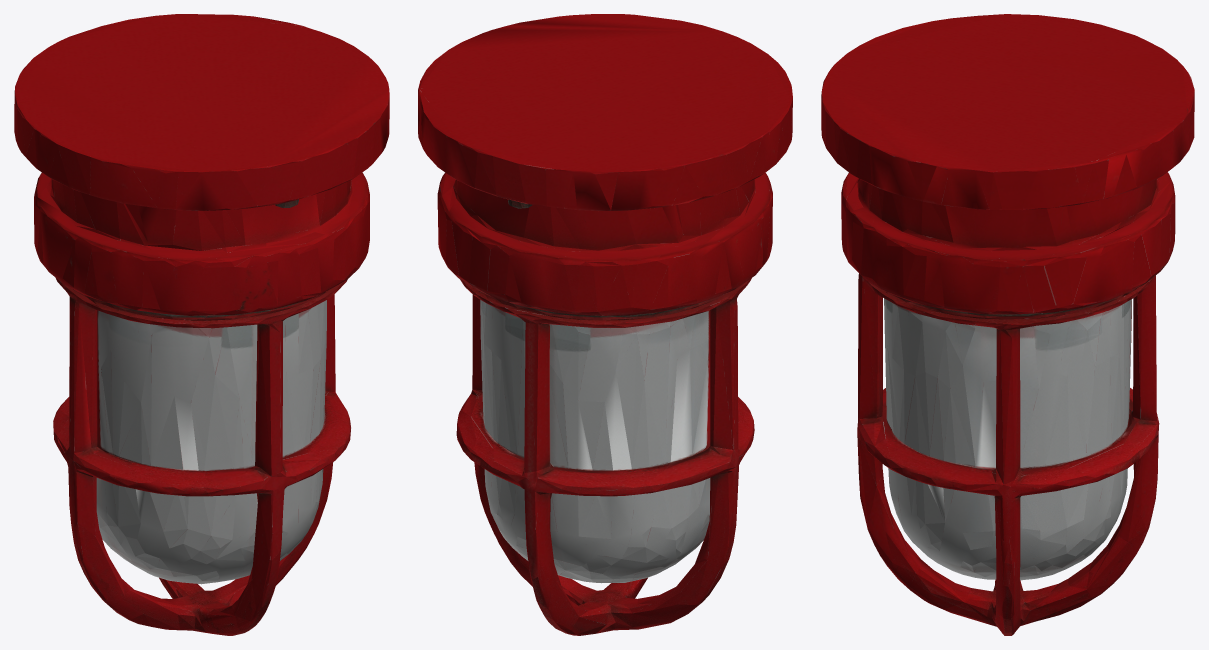
The model's file is AlarmLight.fbx.
3 views of the same model, side by side, from view 1: azimuth 30°, elevation 25°; view 2: azimuth 150°, elevation 25°; view 3: azimuth 270°, elevation 25° (orthographic).
Visible parts, largest first — view 1: mesh_node; view 2: mesh_node; view 3: mesh_node.
Boxes of the visible parts, x1,y1,x2,y2 form: mesh_node: (14,14,389,635); mesh_node: (418,14,792,635); mesh_node: (821,14,1194,635).
Bounding box in the file's own units: 122 × 190 × 122.
Materials: 1 (1 with a texture image).
